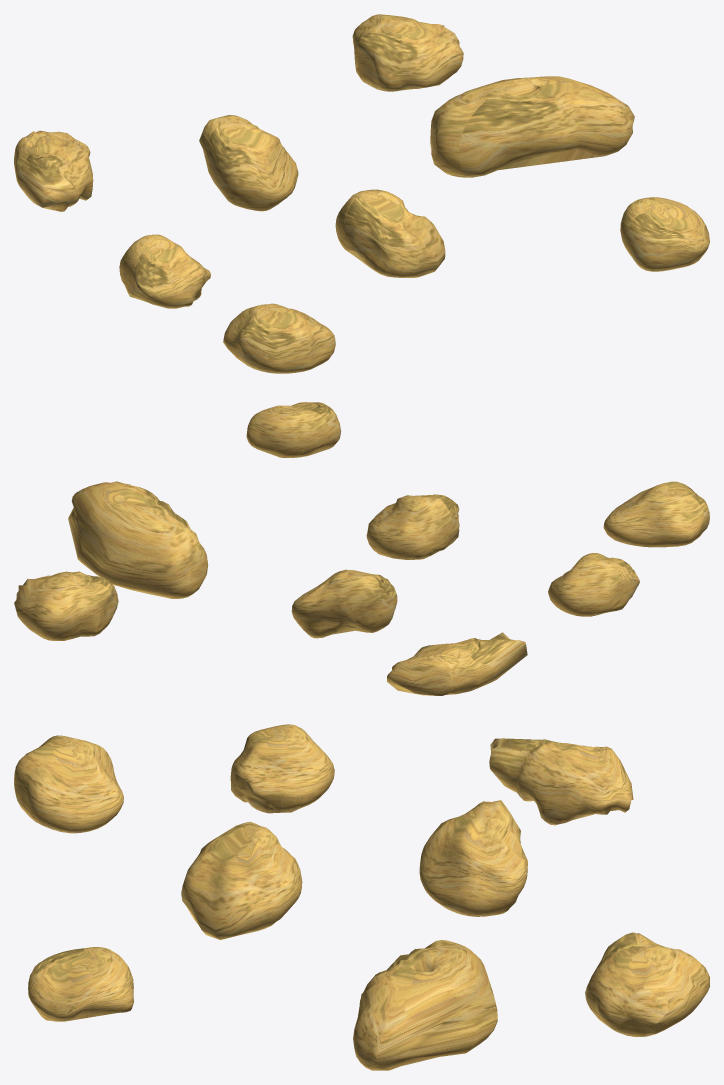
File: gold.glb
3 views of the same model, one above another, from view 1: azimuth 30°, elevation 25°; view 2: azimuth 150°, elevation 25°; view 3: azimuth 270°, elevation 25° (orthographic). The views are drawn at different scales.
Visible parts, largest first — view 1: Sphere.001; view 2: Sphere.001; view 3: Sphere.001.
Part boxes in pixels (x1,y1,x2,y2): Sphere.001: [14, 14, 709, 373]; Sphere.001: [14, 402, 709, 695]; Sphere.001: [14, 724, 709, 1070].
Bounding box in the file's own units: 0.9753 × 0.1486 × 0.9559.
Materials: 1 (1 with a texture image).
